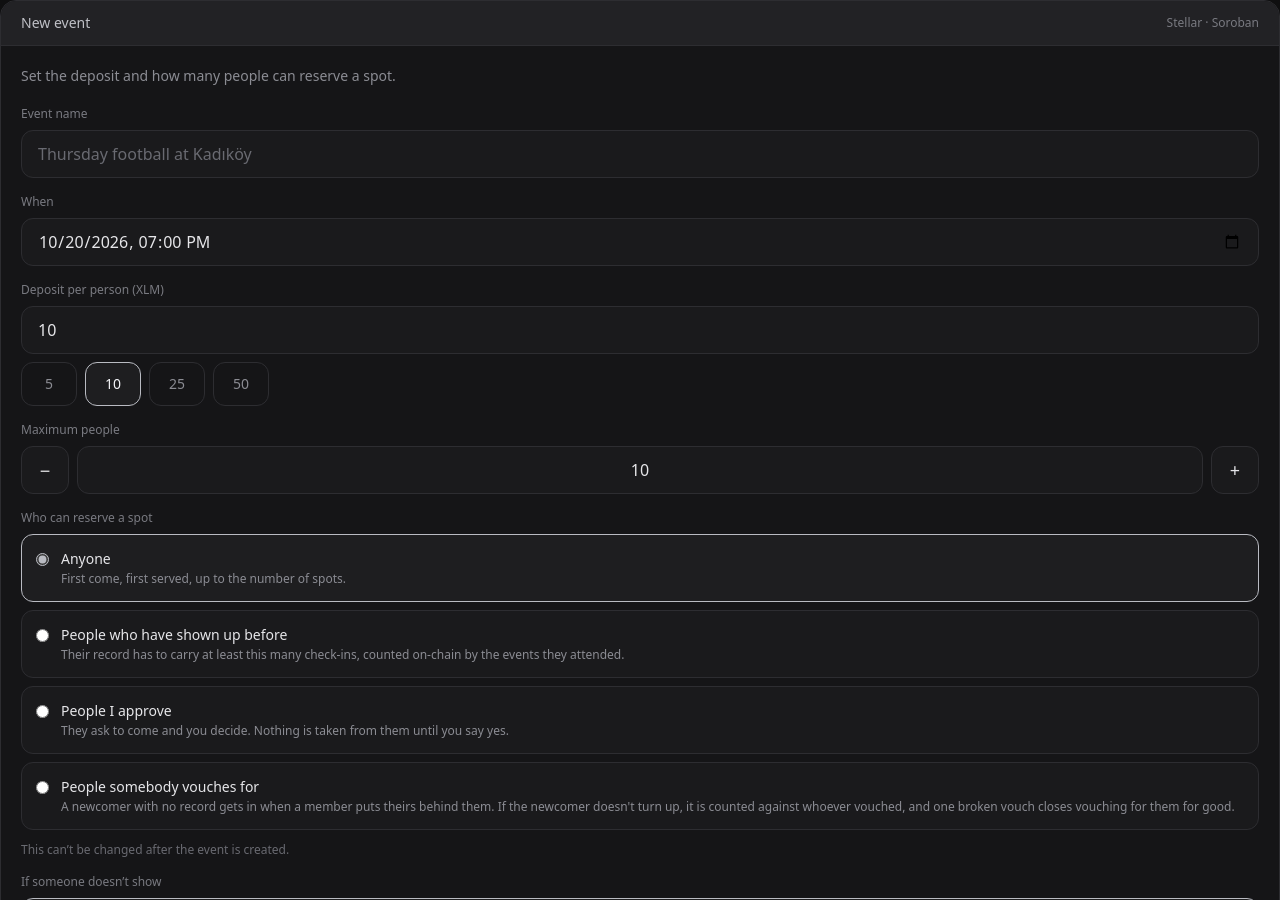
CreateEvent — the controls that replace typing › steps the spot count up and down
Click the button named "one more spot": {"x": 1235, "y": 470} [1211,446,1259,494]
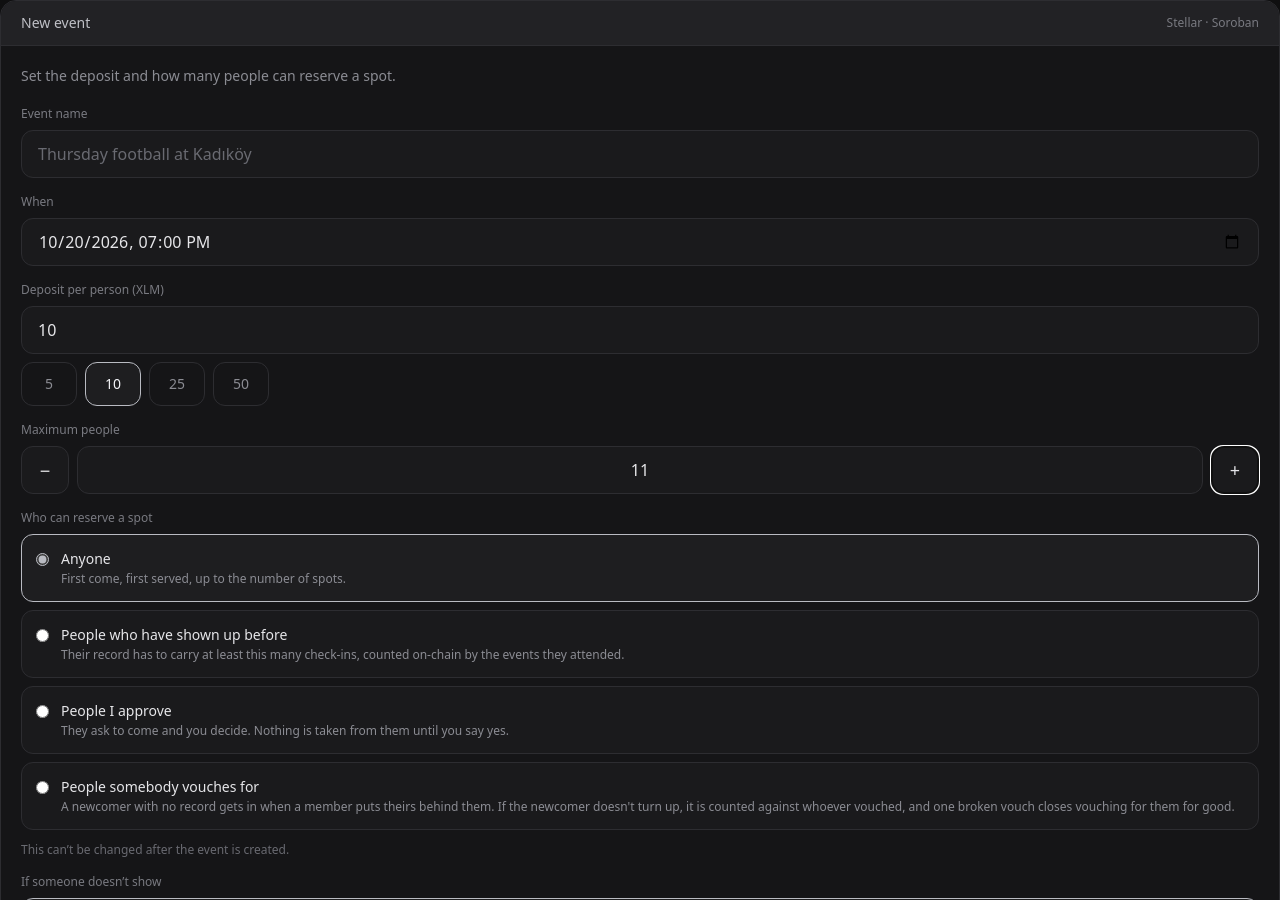
Check: the field named "maximum people" holds "11", box [77,446,1203,494]
Click the button named "one fewer spot": {"x": 45, "y": 470} [21,446,69,494]
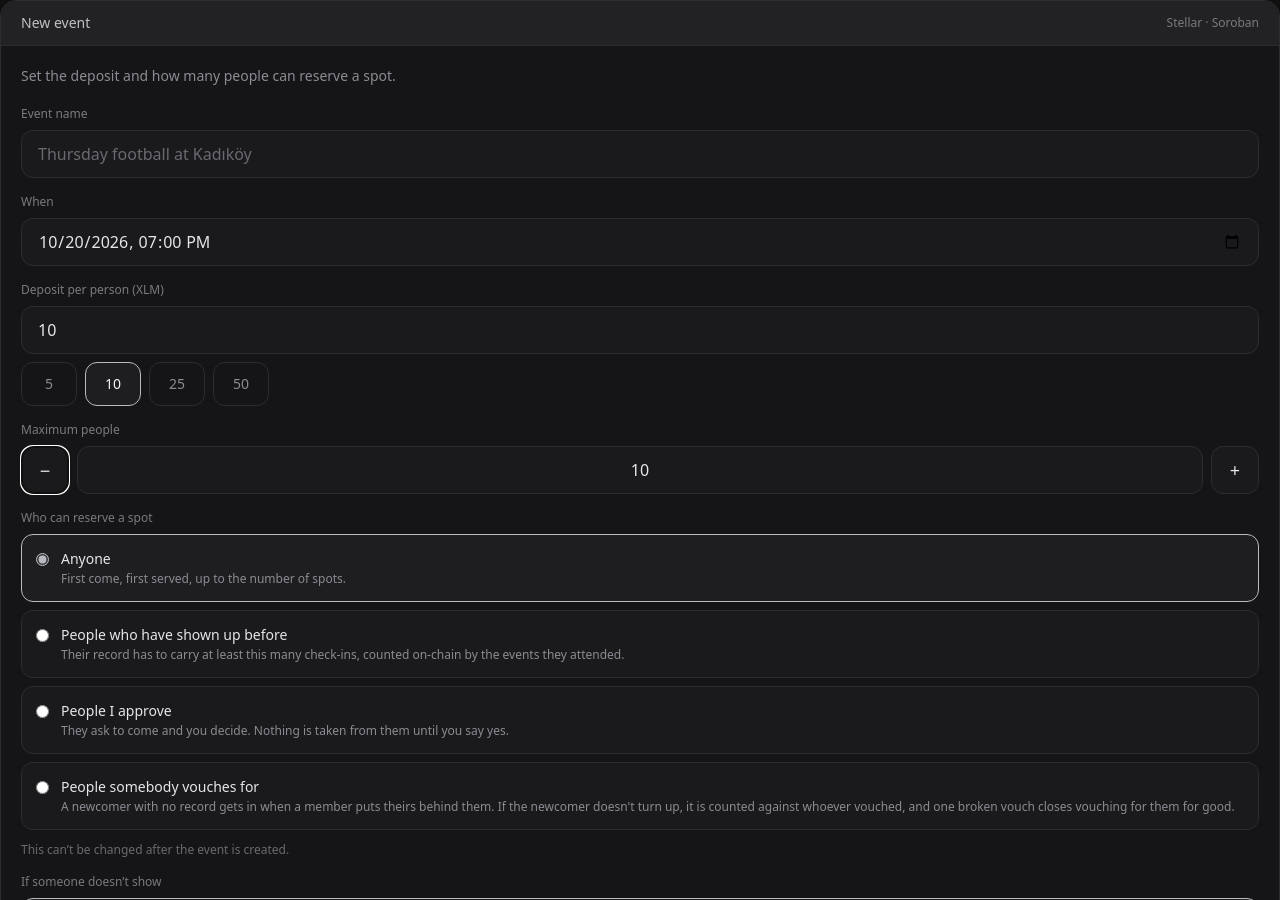
Check: the field named "maximum people" holds "10", box [77,446,1203,494]
